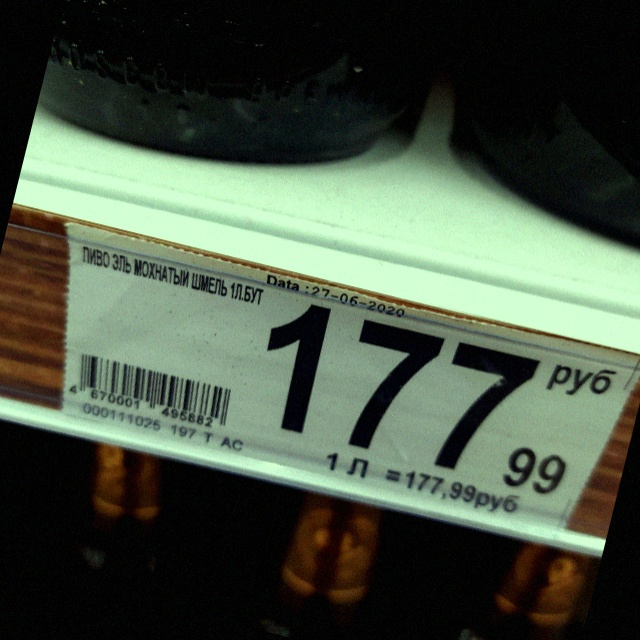barcode: (66, 353, 239, 429)
name: (79, 244, 268, 310)
price: (267, 302, 571, 502)
price_tag: (62, 220, 640, 539)
